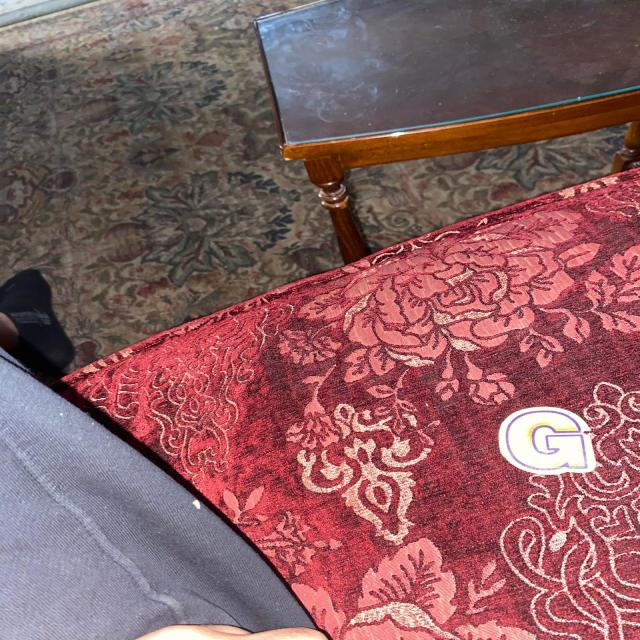G: (499, 407, 597, 475)
